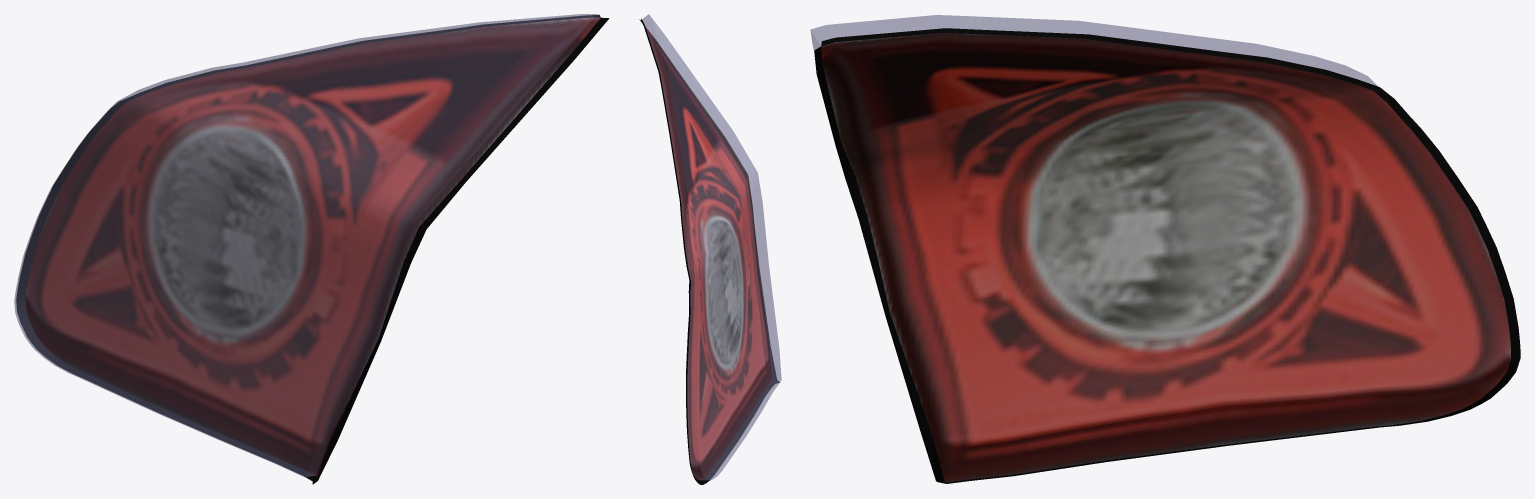
3 views of the same model, side by side, from view 1: azimuth 30°, elevation 25°; view 2: azimuth 150°, elevation 25°; view 3: azimuth 270°, elevation 25° (orthographic). The views are drawn at different scales.
Parts seen in each view (by area): view 1: Z727_541D_R_1_DTaSI_Z727_541D_R, Z727_541D_R_Z727_541D_R_2_N, Z727_541D_R_Z727_541D_R_3_D; view 2: Z727_541D_R_1_DTaSI_Z727_541D_R, Z727_541D_R_Z727_541D_R_2_N, Z727_541D_R_Z727_541D_R_3_D; view 3: Z727_541D_R_Z727_541D_R_2_N, Z727_541D_R_Z727_541D_R_3_D, Z727_541D_R_1_DTaSI_Z727_541D_R.
Part boxes in pixels (<box>): Z727_541D_R_1_DTaSI_Z727_541D_R: <box>14,14,600,477</box>; Z727_541D_R_Z727_541D_R_2_N: <box>25,17,600,477</box>; Z727_541D_R_Z727_541D_R_3_D: <box>16,14,608,484</box>; Z727_541D_R_1_DTaSI_Z727_541D_R: <box>642,14,781,480</box>; Z727_541D_R_Z727_541D_R_2_N: <box>645,27,772,480</box>; Z727_541D_R_Z727_541D_R_3_D: <box>639,19,779,484</box>; Z727_541D_R_Z727_541D_R_2_N: <box>821,33,1510,482</box>; Z727_541D_R_Z727_541D_R_3_D: <box>814,28,1520,483</box>; Z727_541D_R_1_DTaSI_Z727_541D_R: <box>810,15,1377,86</box>.
Size of the model in its own units: 19.43 by 24.15 by 25.41.
